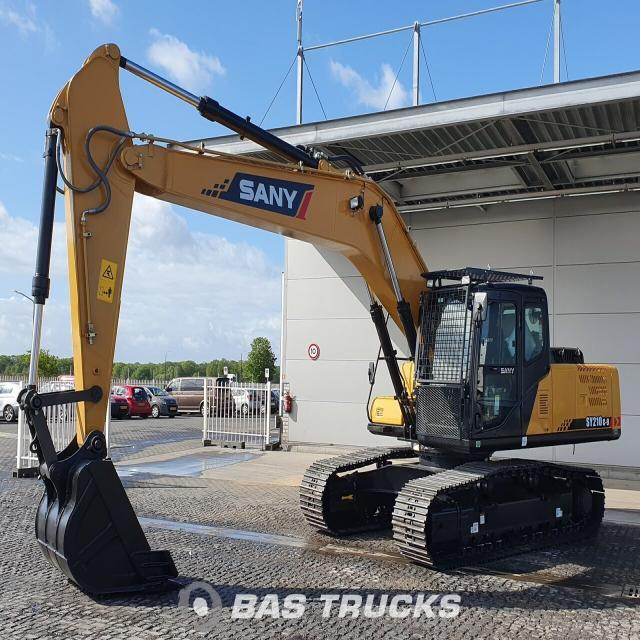C_E: (14, 41, 624, 600)
